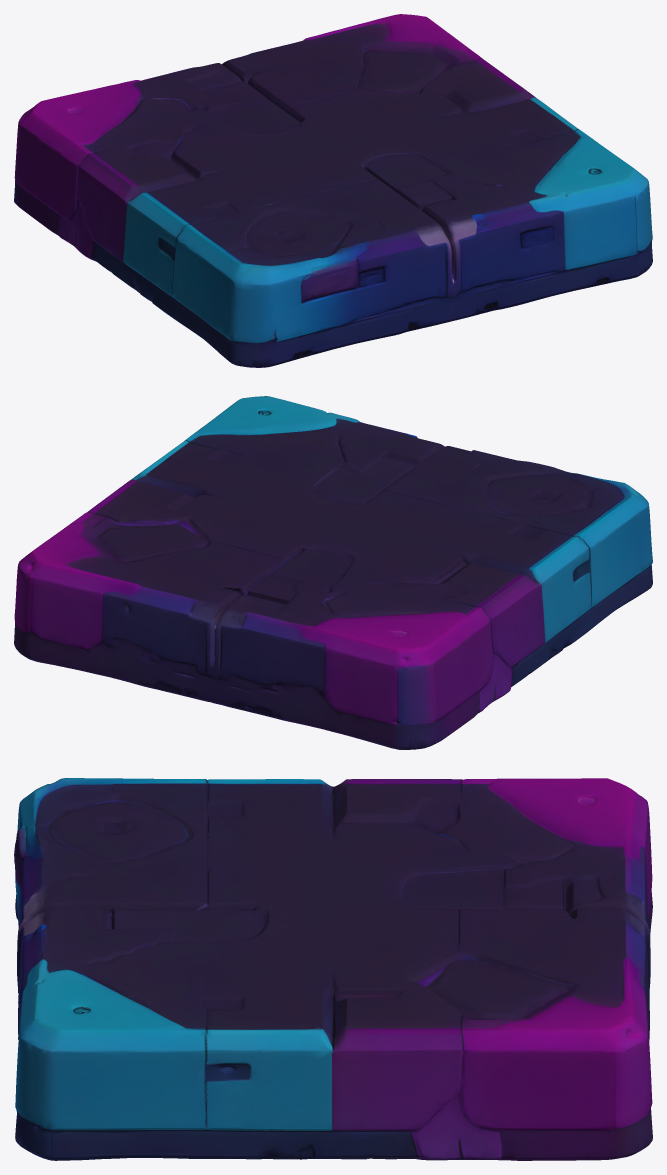
The picture shows the model from 3 angles, top to bottom: view 1: azimuth 30°, elevation 25°; view 2: azimuth 150°, elevation 25°; view 3: azimuth 270°, elevation 25°; orthographic projection. The views are drawn at different scales.
Parts seen in each view (by area): view 1: tripo_node_86bb5041-aca5-474c-a447-54939b2cd49b; view 2: tripo_node_86bb5041-aca5-474c-a447-54939b2cd49b; view 3: tripo_node_86bb5041-aca5-474c-a447-54939b2cd49b.
Boxes of the visible parts, x1=… form: tripo_node_86bb5041-aca5-474c-a447-54939b2cd49b: x1=14, y1=14, x2=652, y2=367; tripo_node_86bb5041-aca5-474c-a447-54939b2cd49b: x1=14, y1=396, x2=652, y2=749; tripo_node_86bb5041-aca5-474c-a447-54939b2cd49b: x1=14, y1=778, x2=652, y2=1160.
Bounding box in the file's own units: 1 × 0.2154 × 0.9955.
1 material, 1 textured.
